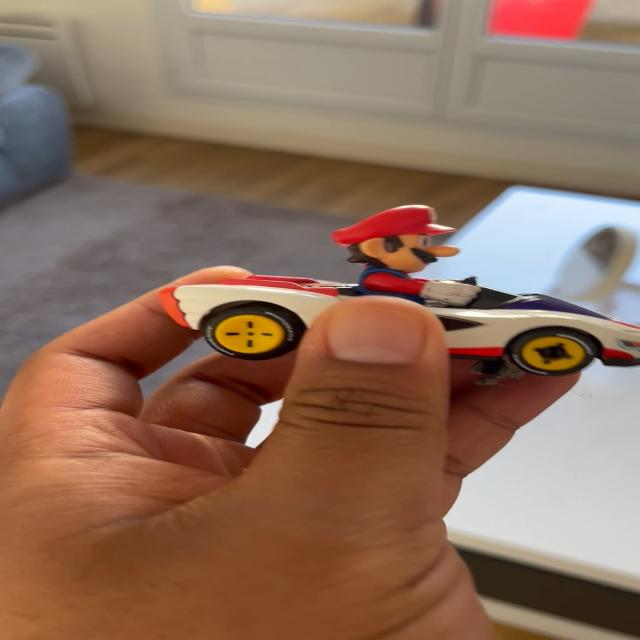mario: (184, 198, 630, 397)
